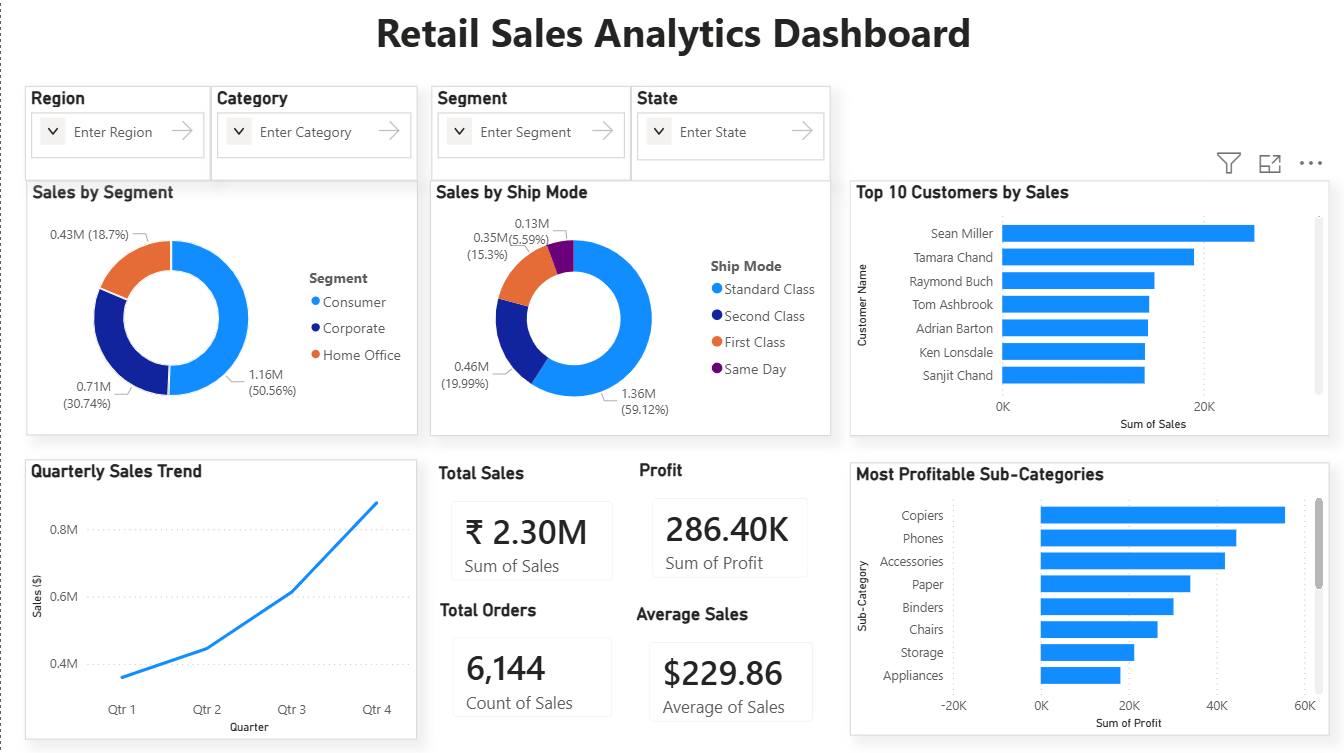

The dashboard page shown, as its layout file describes it:
{"tool":"powerbi","page":{"name":"Page 1","canvas":[1280,720],"ordinal":0},"visuals":[{"type":"cardVisual","title":"Total Sales","fields":{"Data":["Sum(cleaned_superstore.Sales)"]},"box":[411.7,441.7,188.3,130],"z":0},{"type":"lineChart","title":"Quarterly Sales Trend","fields":{"Category":["cleaned_superstore.Order Date.Variation.Date Hierarchy.Year","cleaned_superstore.Order Date.Variation.Date Hierarchy.Quarter","cleaned_superstore.Order Date.Variation.Date Hierarchy.Month","cleaned_superstore.Order Date.Variation.Date Hierarchy.Day"],"Y":["Sum(cleaned_superstore.Sales)"]},"box":[23.3,438.3,373.3,266.7],"z":1000},{"type":"donutChart","title":"Sales by Segment","fields":{"Category":["cleaned_superstore.Segment"],"Y":["Sum(cleaned_superstore.Sales)"]},"box":[23.8,172.5,372.5,242.5],"z":2000},{"type":"clusteredBarChart","title":"Most Profitable Sub-Categories","fields":{"Category":["cleaned_superstore.Sub-Category"],"Y":["Sum(cleaned_superstore.Profit)"]},"box":[808.3,441.7,456.7,260],"z":3000},{"type":"textSlicer","fields":{"Values":["cleaned_superstore.Region"]},"box":[23.3,83.3,176.7,90],"z":4000},{"type":"textSlicer","fields":{"Values":["cleaned_superstore.Category"]},"box":[200,83.3,196.7,90],"z":5000},{"type":"textSlicer","fields":{"Values":["cleaned_superstore.Segment"]},"box":[410,83.3,190,90],"z":6000},{"type":"textSlicer","fields":{"Values":["cleaned_superstore.State"]},"box":[600,83.3,190,91.7],"z":7000},{"type":"cardVisual","title":"Total Orders","fields":{"Data":["Count(cleaned_superstore.Sales)"]},"box":[413.3,571.7,186.7,130],"z":8000},{"type":"cardVisual","title":"Profit","fields":{"Data":["Sum(cleaned_superstore.Profit)"]},"box":[603.3,438.3,183.3,130],"z":9000},{"type":"cardVisual","title":"Average Sales","fields":{"Data":["Avg(cleaned_superstore.Sales)"]},"box":[600,575,190,130],"z":10000},{"type":"donutChart","title":"Sales by Ship Mode","fields":{"Category":["cleaned_superstore.Ship Mode"],"Y":["Sum(cleaned_superstore.Sales)"]},"box":[408.3,173.3,381.7,243.3],"z":12000},{"type":"clusteredBarChart","title":"Top 10 Customers by Sales","fields":{"Category":["cleaned_superstore.Customer Name"],"Y":["Sum(cleaned_superstore.Sales)"]},"box":[808.3,173.3,456.7,243.3],"z":13000},{"type":"shape","box":[808,13,457,150],"z":13001},{"type":"textbox","box":[260,13.3,758.3,63.3],"z":13003}]}

Visuals, with their boxes in screenshot pixels (x1, y1, x2, y2), scaled from the page's 1280x720 canvas onto the 1344x753 screenshot:
"Total Sales" cardVisual: [left=432, top=462, right=630, bottom=598]
"Quarterly Sales Trend" lineChart: [left=24, top=458, right=416, bottom=737]
"Sales by Segment" donutChart: [left=25, top=180, right=416, bottom=434]
"Most Profitable Sub-Categories" clusteredBarChart: [left=849, top=462, right=1328, bottom=734]
textSlicer - cleaned_superstore.Region: [left=24, top=87, right=210, bottom=181]
textSlicer - cleaned_superstore.Category: [left=210, top=87, right=417, bottom=181]
textSlicer - cleaned_superstore.Segment: [left=430, top=87, right=630, bottom=181]
textSlicer - cleaned_superstore.State: [left=630, top=87, right=830, bottom=183]
"Total Orders" cardVisual: [left=434, top=598, right=630, bottom=734]
"Profit" cardVisual: [left=633, top=458, right=826, bottom=594]
"Average Sales" cardVisual: [left=630, top=601, right=830, bottom=737]
"Sales by Ship Mode" donutChart: [left=429, top=181, right=830, bottom=436]
"Top 10 Customers by Sales" clusteredBarChart: [left=849, top=181, right=1328, bottom=436]
shape: [left=848, top=14, right=1328, bottom=170]
textbox: [left=273, top=14, right=1069, bottom=80]
